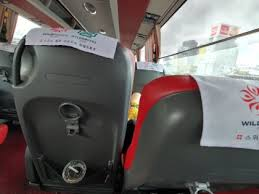seat: (163, 62, 259, 180)
